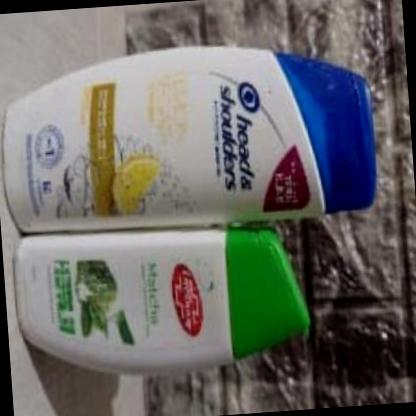objects: (0, 34, 383, 242), (6, 213, 315, 380)
